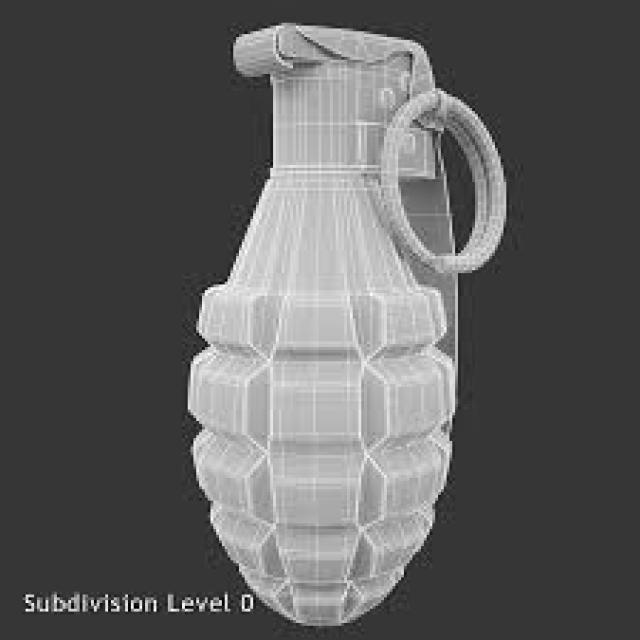grenade: (174, 17, 528, 638)
